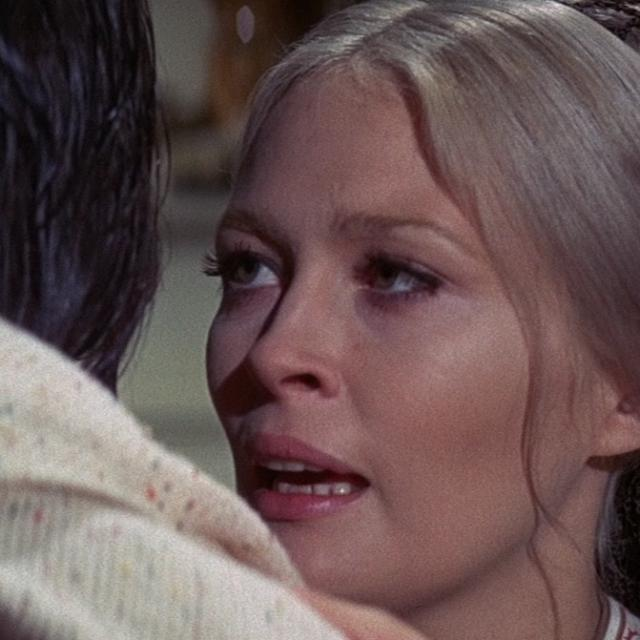Depress: (205, 68, 609, 609)
